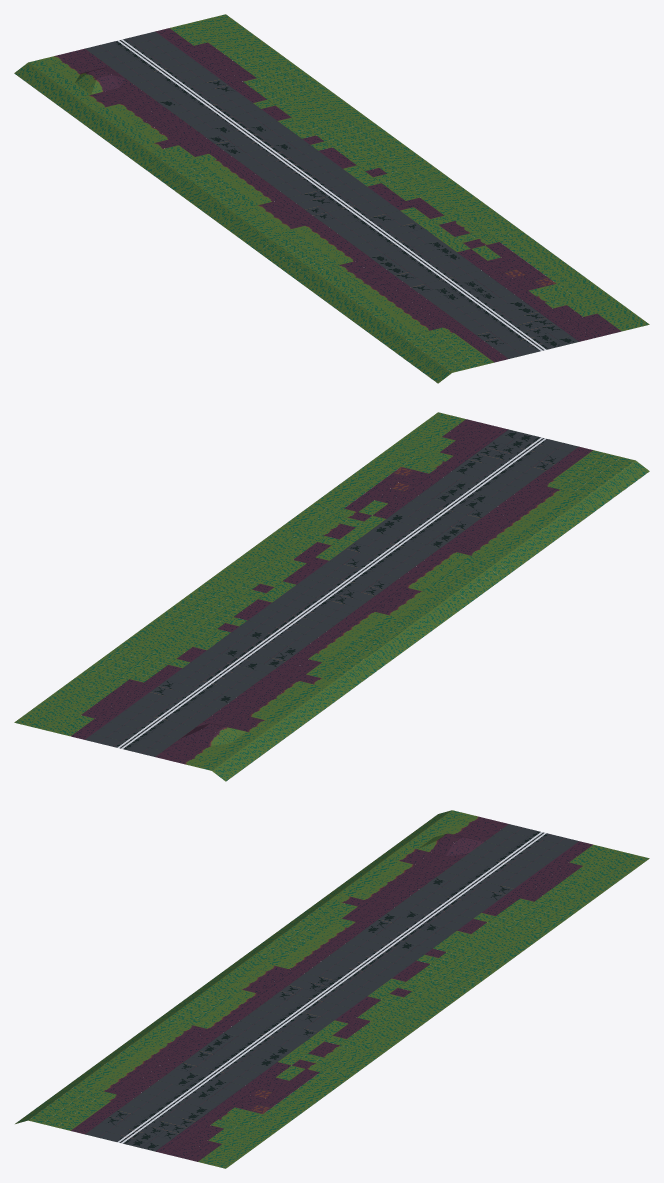
Rendered from lvl_bigroad.obj.
3 renders of one model, top to bottom at view 1: azimuth 30°, elevation 25°; view 2: azimuth 150°, elevation 25°; view 3: azimuth 330°, elevation 25°, orthographic.
Parts seen in each view (by area): view 1: Default; view 2: Default; view 3: Default.
Boxes of the visible parts, x1,y1,x2,y2 form: Default: (14,14,649,383); Default: (14,412,649,781); Default: (15,810,649,1168).
Size of the model in its own units: 16 by 1 by 52.
1 material, 1 textured.
